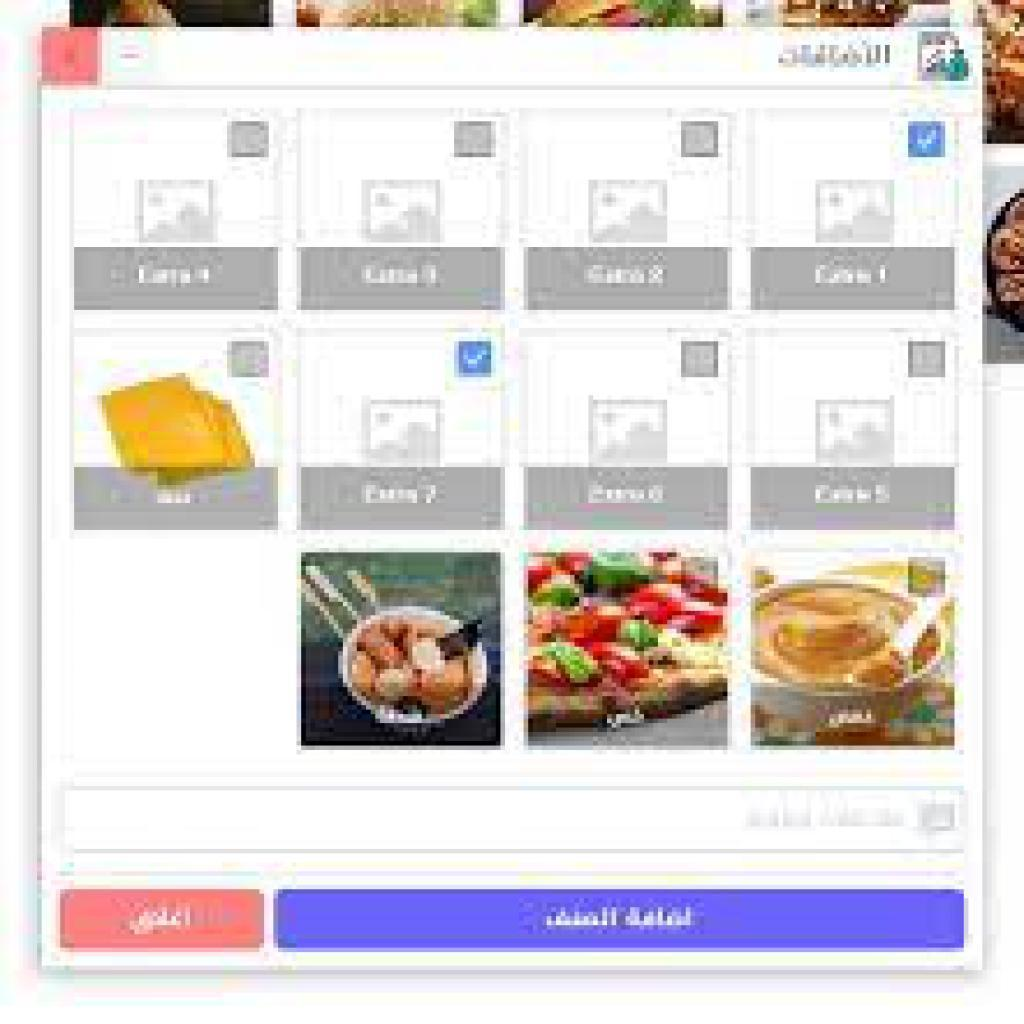button: (274, 887, 966, 957), (61, 888, 268, 954)
checkbox: (231, 119, 271, 161), (229, 341, 270, 380), (909, 341, 949, 380), (682, 121, 721, 161), (680, 342, 721, 379), (456, 122, 496, 159), (910, 123, 949, 158), (459, 338, 494, 376)
input: (65, 785, 965, 853)
